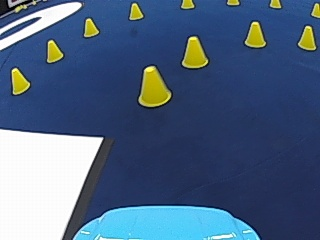cone: (136, 64, 170, 107), (180, 35, 208, 68), (243, 20, 265, 47), (296, 24, 317, 50), (9, 67, 29, 94), (45, 38, 63, 62), (82, 17, 99, 37), (128, 2, 143, 20), (309, 2, 319, 17), (181, 0, 193, 9), (269, 0, 281, 8)
